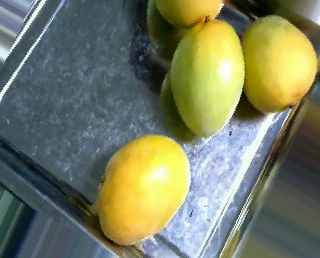Mango: (97, 135, 191, 244), (171, 17, 245, 136), (242, 14, 318, 112), (154, 0, 224, 28)
